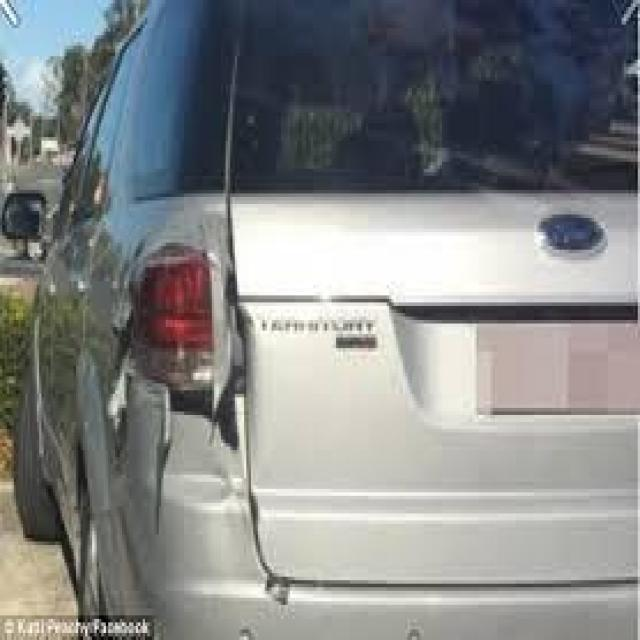damaged: (108, 225, 258, 531), (269, 576, 295, 608)
